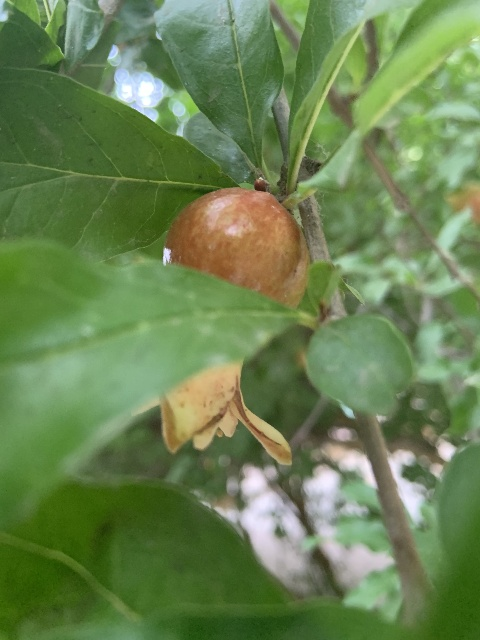early-fruit: (133, 185, 316, 469), (446, 179, 480, 234)
